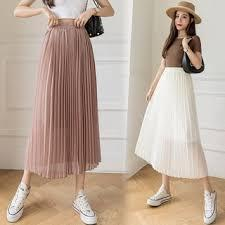skirt: (24, 23, 103, 179), (134, 66, 208, 180)
